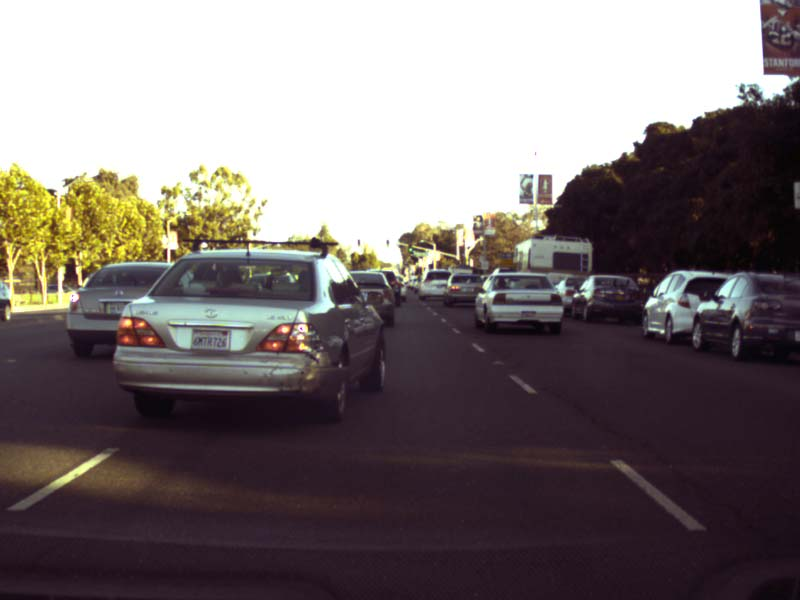Green: (409, 244, 411, 253), (386, 239, 388, 245)
